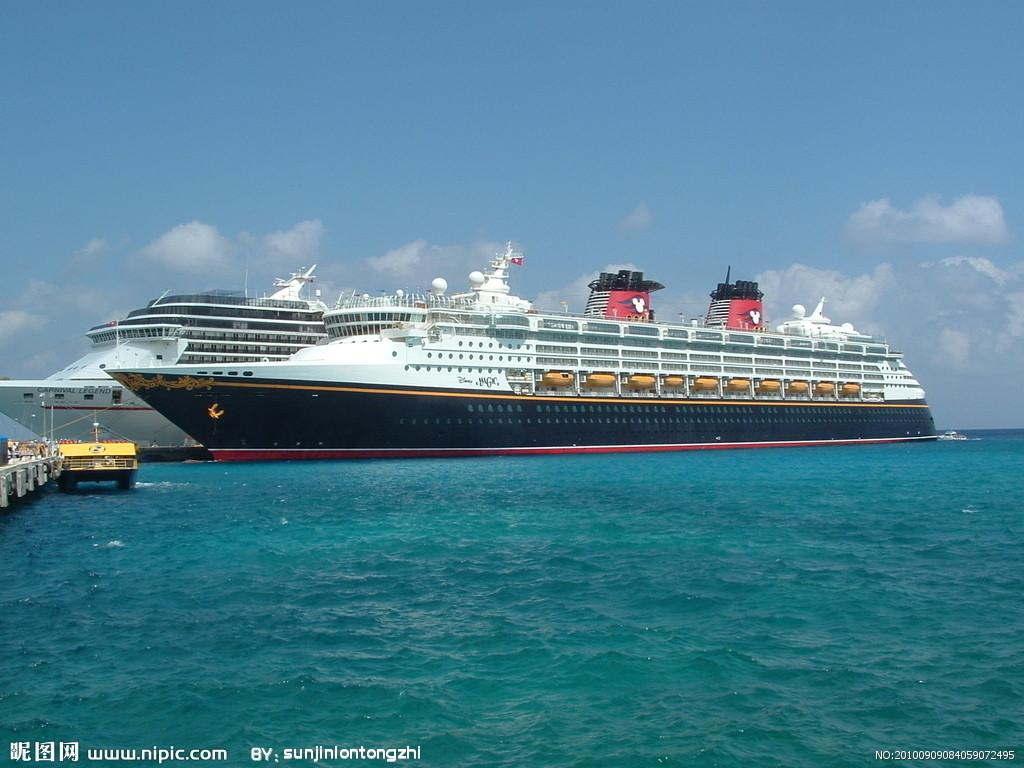youlun: (105, 237, 943, 456)
